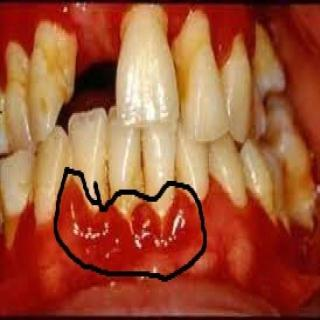Gum Swelling: (61, 183, 130, 256), (163, 189, 199, 248), (129, 202, 166, 252)
calculus: (123, 5, 175, 43), (34, 20, 78, 64), (182, 15, 213, 65), (292, 185, 314, 243), (95, 161, 121, 209), (1, 41, 27, 82), (276, 201, 294, 231), (258, 195, 276, 225)
maligned: (224, 52, 256, 140), (238, 134, 268, 218), (2, 155, 32, 231), (3, 79, 29, 155)
stains: (172, 46, 198, 111)
